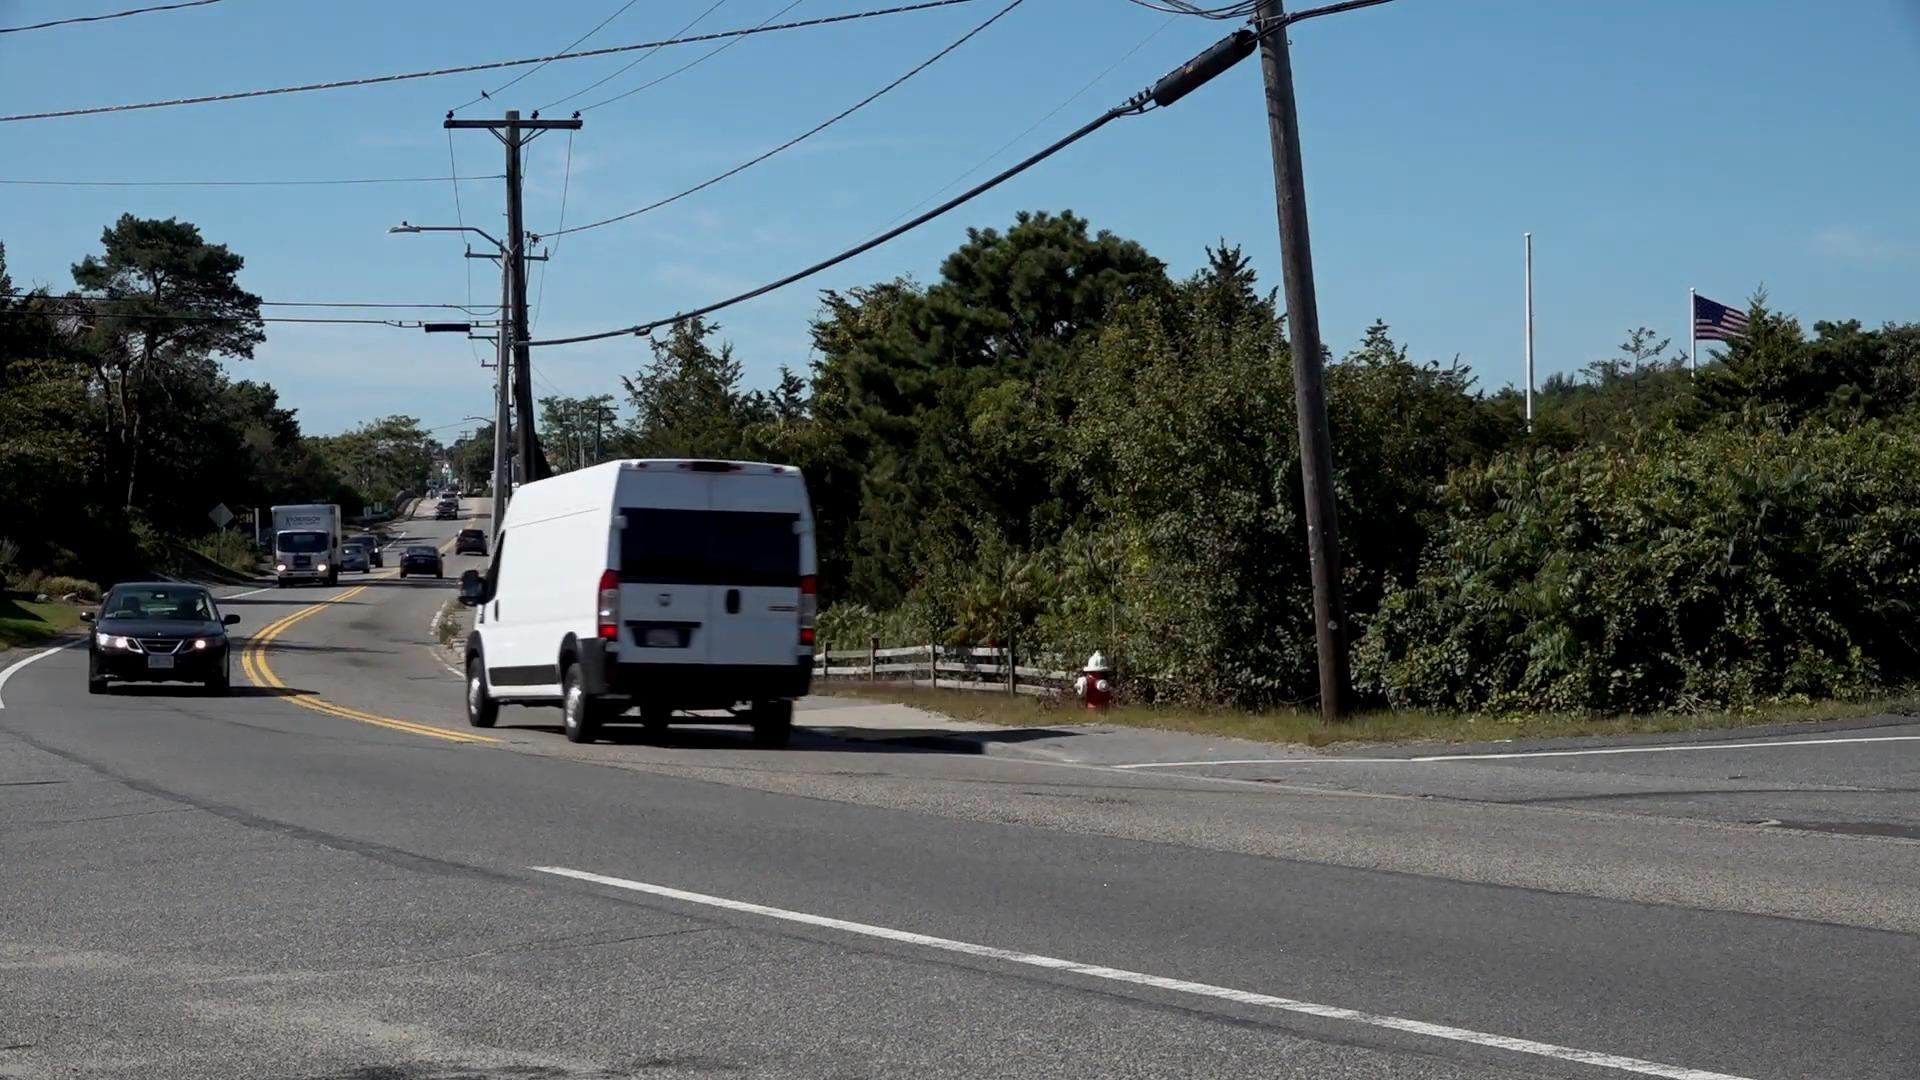minivan: (465, 456, 820, 736)
sedans: (87, 582, 234, 695)
truck: (273, 502, 338, 584)
